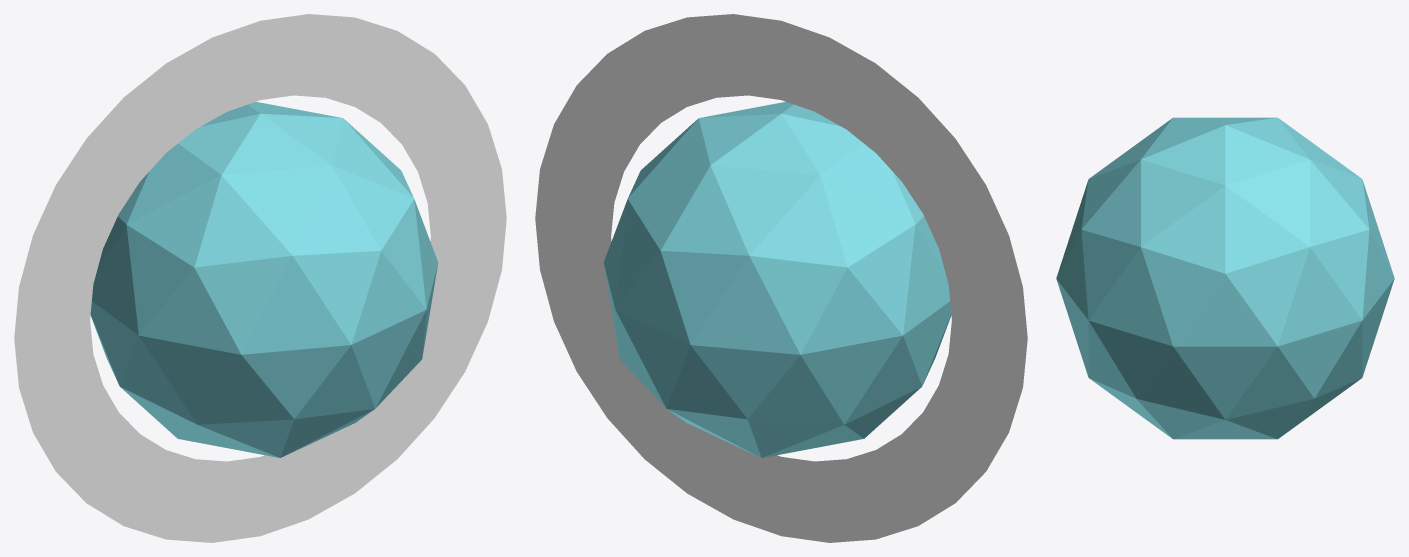
Rendered from Uranus.glb.
The picture shows the model from 3 angles, left to right: view 1: azimuth 30°, elevation 25°; view 2: azimuth 150°, elevation 25°; view 3: azimuth 270°, elevation 25°; orthographic projection. The views are drawn at different scales.
Visible parts, largest first — view 1: Circle, Icosphere; view 2: Circle, Icosphere; view 3: Icosphere.
Boxes of the visible parts, box(x1,y1,x2,y2) form: Circle: box(14, 14, 506, 542); Icosphere: box(90, 101, 438, 457); Circle: box(535, 14, 1027, 542); Icosphere: box(603, 101, 951, 457); Icosphere: box(1056, 117, 1394, 439).
Size of the model in its own units: 3.13 by 3.13 by 2.
